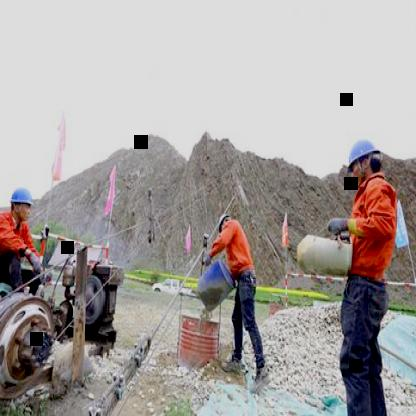helmet: (343, 130, 381, 190), (7, 183, 37, 225), (215, 210, 231, 238)
